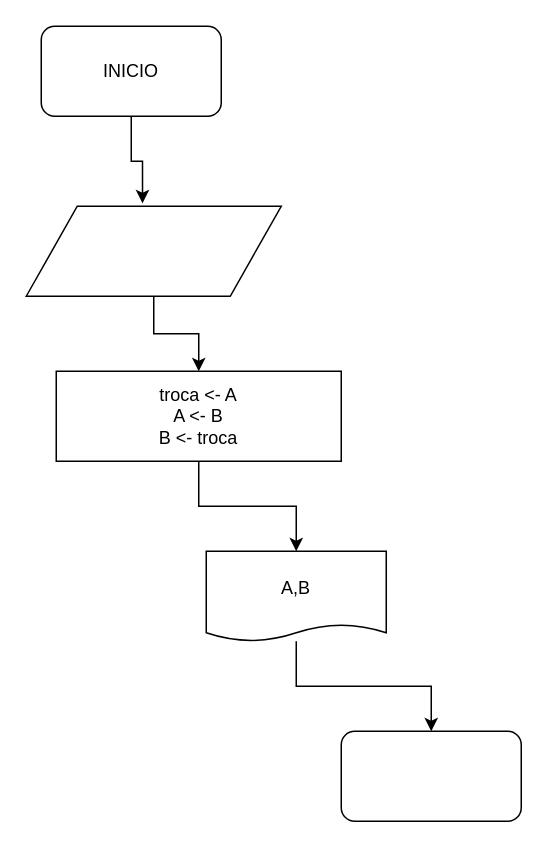
This 548x848 diagram has some shape labels left out. The box of each missing label's shape, as (x1, y1, x2, y2) in pixels:
A, B, troca: (25, 205, 281, 296)
FIM: (340, 730, 521, 821)
